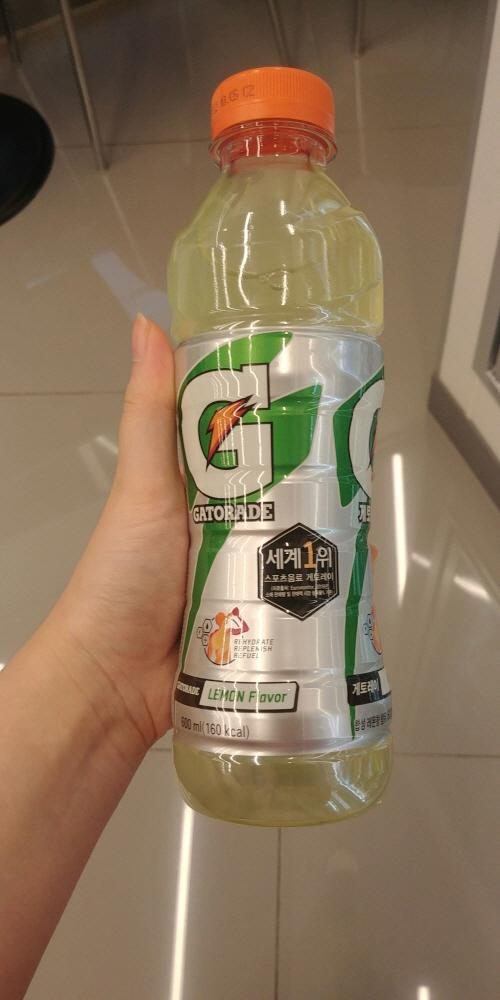gatorade_lemon: (153, 55, 413, 850)
